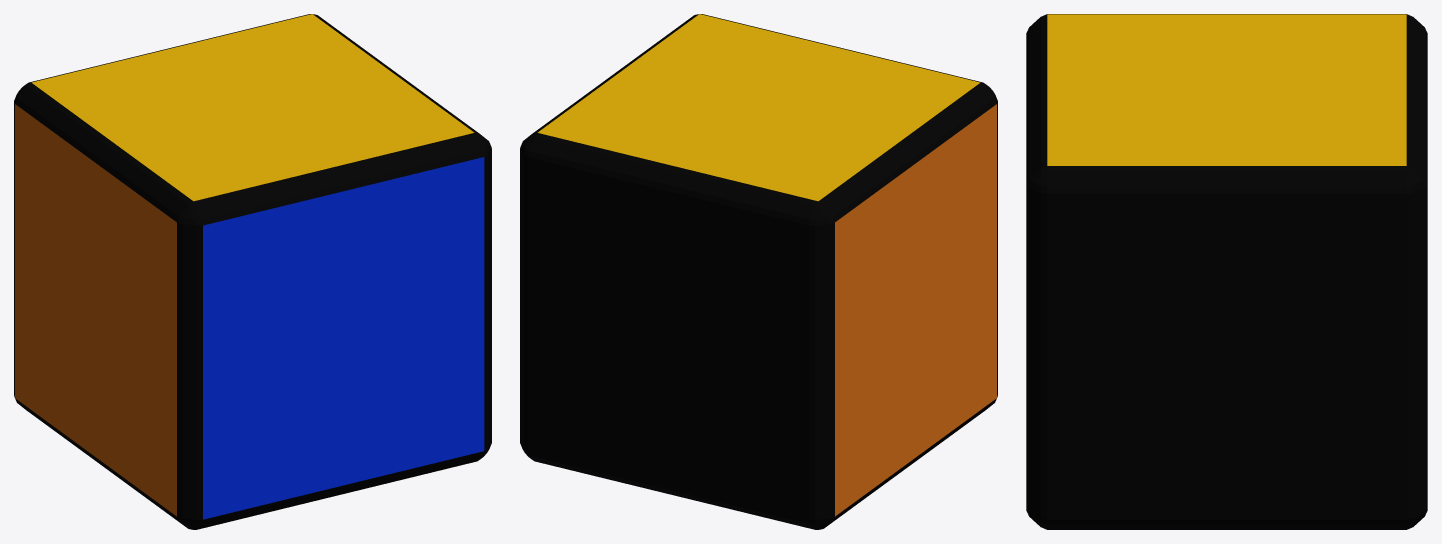
Rendered from BOY.glb.
3 views of the same model, side by side, from view 1: azimuth 30°, elevation 25°; view 2: azimuth 150°, elevation 25°; view 3: azimuth 270°, elevation 25° (orthographic). The views are drawn at different scales.
Parts seen in each view (by area): view 1: Cube; view 2: Cube; view 3: Cube.
Part boxes in pixels (x1=…): Cube: x1=14, y1=14, x2=491, y2=529; Cube: x1=520, y1=14, x2=997, y2=529; Cube: x1=1026, y1=14, x2=1427, y2=529.
Size of the model in its own units: 2 by 2 by 2.
